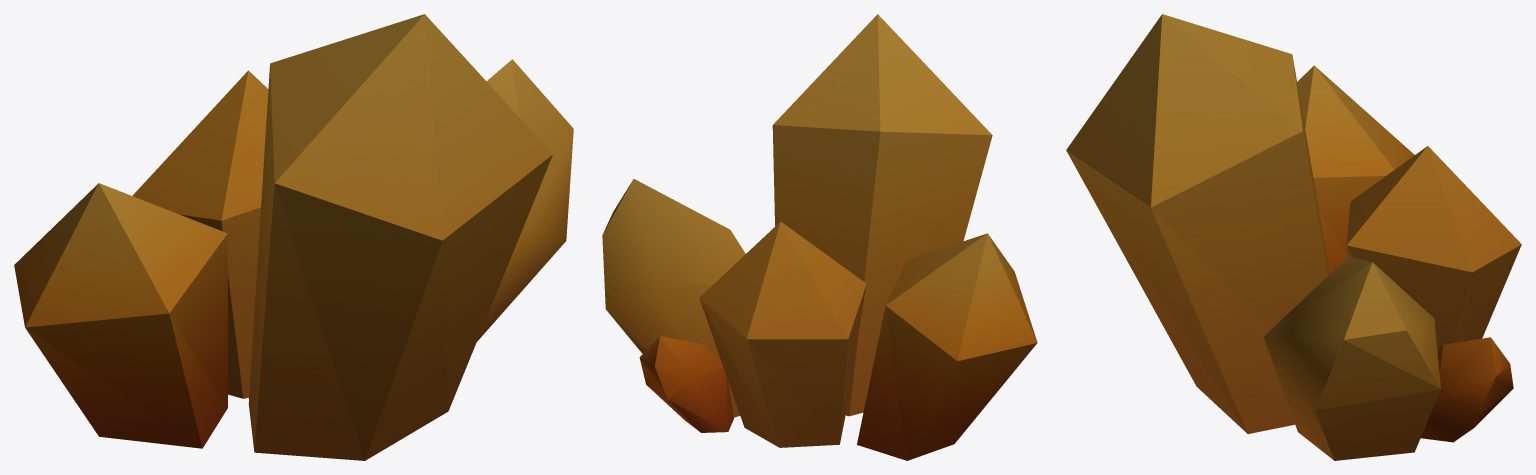
Rendered from ZLP_Crystalk_D_13.FBX.
3 views of the same model, side by side, from view 1: azimuth 30°, elevation 25°; view 2: azimuth 150°, elevation 25°; view 3: azimuth 270°, elevation 25° (orthographic). The views are drawn at different scales.
Visible parts, largest first — view 1: ZLP_Crystalk_D_13; view 2: ZLP_Crystalk_D_13; view 3: ZLP_Crystalk_D_13.
Boxes of the visible parts, x1,y1,x2,y2 form: ZLP_Crystalk_D_13: [14, 14, 573, 460]; ZLP_Crystalk_D_13: [602, 14, 1037, 460]; ZLP_Crystalk_D_13: [1066, 14, 1521, 460].
Bounding box in the file's own units: 135 × 104 × 110.
